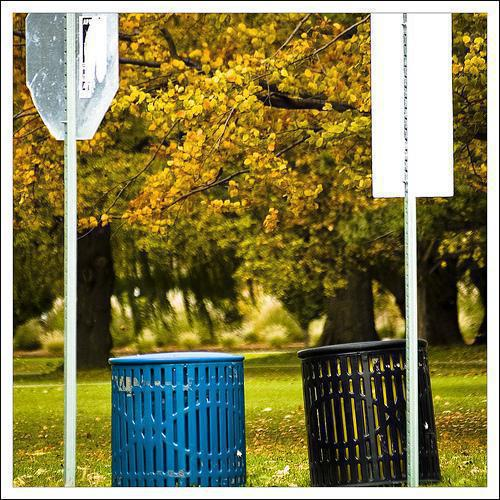Bote de Basura: (106, 342, 248, 485), (303, 343, 443, 480)
